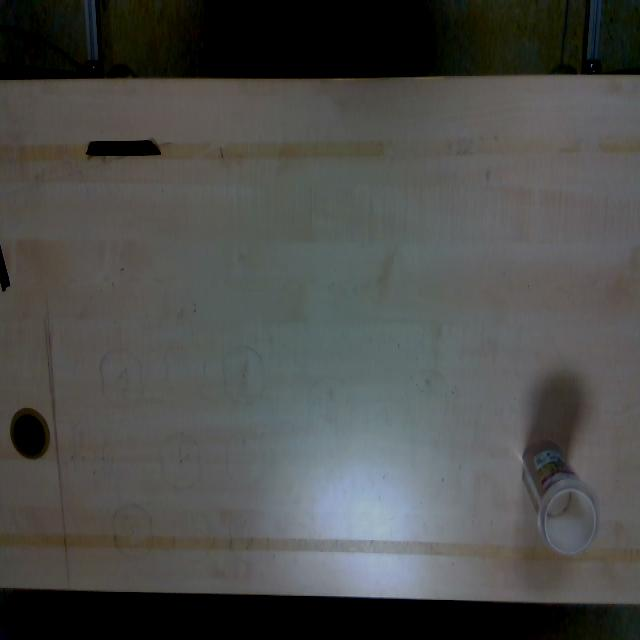cups: (520, 438, 598, 554)
